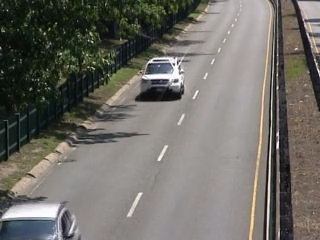car: (1, 197, 82, 240), (136, 54, 189, 102)
